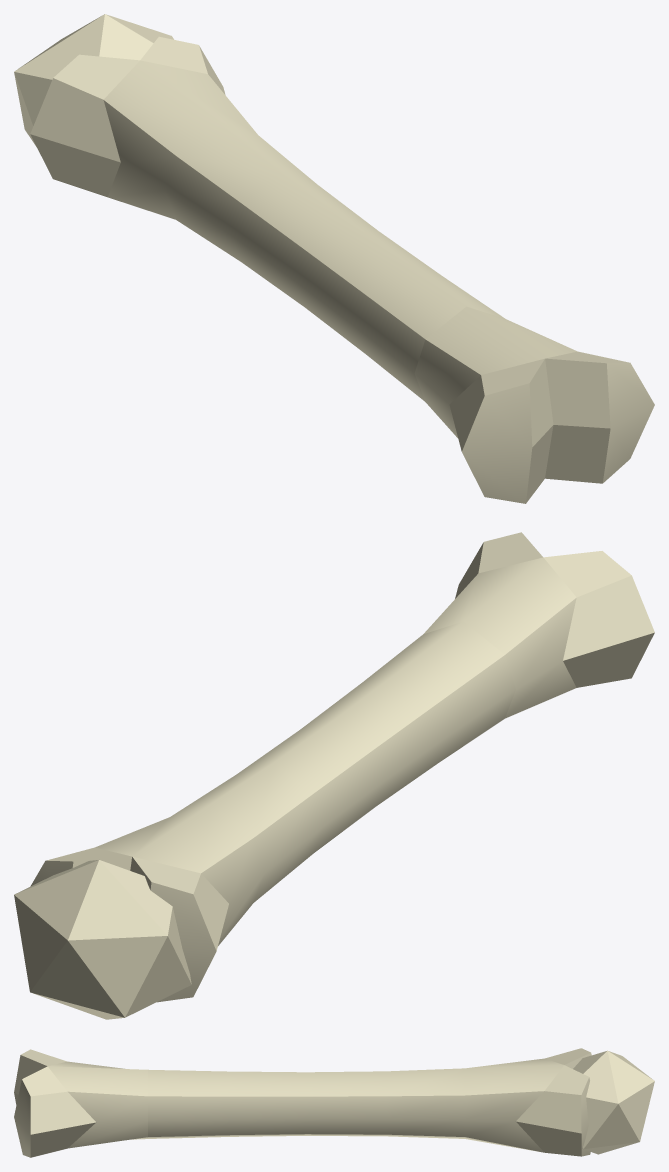
File: Pierna_Iz.fbx
3 renders of one model, top to bottom at view 1: azimuth 30°, elevation 25°; view 2: azimuth 150°, elevation 25°; view 3: azimuth 270°, elevation 25°, orthographic. The views are drawn at different scales.
Parts seen in each view (by area): view 1: Pierna_Iz; view 2: Pierna_Iz; view 3: Pierna_Iz.
Boxes of the visible parts, x1,y1,x2,y2 form: Pierna_Iz: [14, 14, 654, 503]; Pierna_Iz: [14, 532, 654, 1019]; Pierna_Iz: [14, 1048, 654, 1157].
Size of the model in its own units: 11.64 by 9.37 by 52.41.
